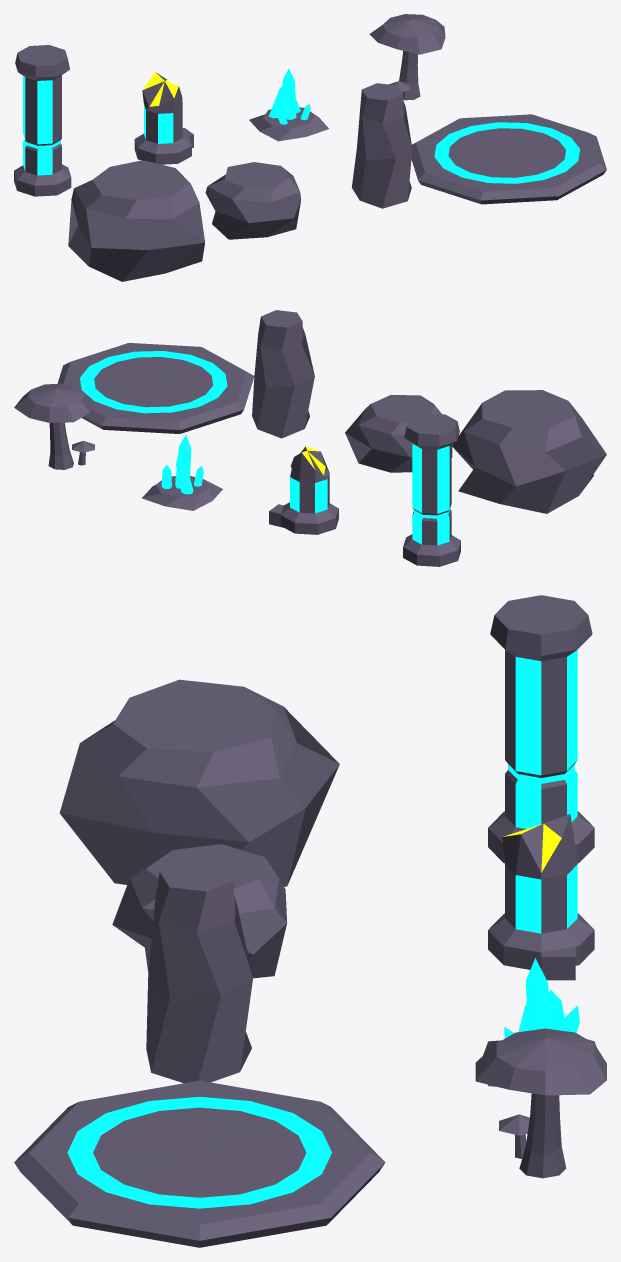
Rendered from first_stage_pack.glb.
3 renders of one model, top to bottom at view 1: azimuth 30°, elevation 25°; view 2: azimuth 150°, elevation 25°; view 3: azimuth 270°, elevation 25°, orthographic. The views are drawn at different scales.
Parts seen in each view (by area): view 1: Teleporter_Platform, Rock_Monolith_Large, Ancient_Pillar_Intact, Rock_Monolith_Spire, Rock_Monolith_Medium, Ancient_Pillar_Broken, Alien_Mushroom_Spore, Alien_Crystal_Cluster; view 2: Rock_Monolith_Large, Teleporter_Platform, Ancient_Pillar_Intact, Rock_Monolith_Spire, Rock_Monolith_Medium, Ancient_Pillar_Broken, Alien_Mushroom_Spore, Alien_Crystal_Cluster; view 3: Teleporter_Platform, Rock_Monolith_Large, Rock_Monolith_Spire, Ancient_Pillar_Intact, Ancient_Pillar_Broken, Alien_Mushroom_Spore, Rock_Monolith_Medium, Alien_Crystal_Cluster.
Boxes of the visible parts, x1,y1,x2,y2 form: Teleporter_Platform: (411,114,606,204); Rock_Monolith_Large: (68,160,204,281); Ancient_Pillar_Intact: (14,45,71,196); Rock_Monolith_Spire: (351,83,412,208); Rock_Monolith_Medium: (205,162,301,239); Ancient_Pillar_Broken: (134,72,193,164); Alien_Mushroom_Spore: (369,14,445,100); Alien_Crystal_Cluster: (249,68,328,141); Rock_Monolith_Large: (452,390,606,513); Teleporter_Platform: (57,343,254,433); Ancient_Pillar_Intact: (403,413,460,566); Rock_Monolith_Spire: (252,310,314,438); Rock_Monolith_Medium: (345,395,452,472); Ancient_Pillar_Broken: (269,446,338,534); Alien_Mushroom_Spore: (14,383,94,469); Alien_Crystal_Cluster: (142,435,222,510); Teleporter_Platform: (14,1080,385,1247); Rock_Monolith_Large: (59,679,339,886); Rock_Monolith_Spire: (146,860,252,1083); Ancient_Pillar_Intact: (488,595,594,863); Ancient_Pillar_Broken: (488,814,594,980); Alien_Mushroom_Spore: (475,1028,606,1178); Rock_Monolith_Medium: (112,844,287,978); Alien_Crystal_Cluster: (483,958,596,1086).
Bounding box in the file's own units: 25.36 × 6 × 13.89.
